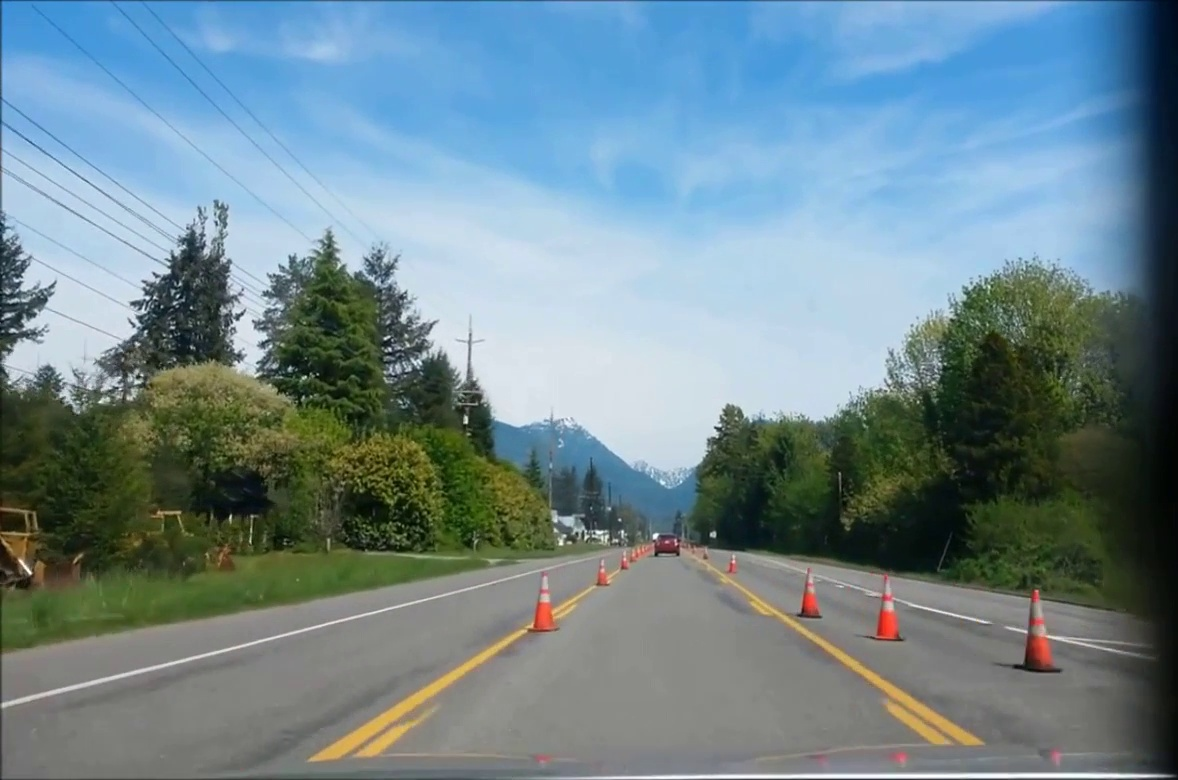Cone: (1021, 589, 1050, 665), (533, 566, 559, 631), (876, 575, 897, 639), (802, 568, 820, 614)
